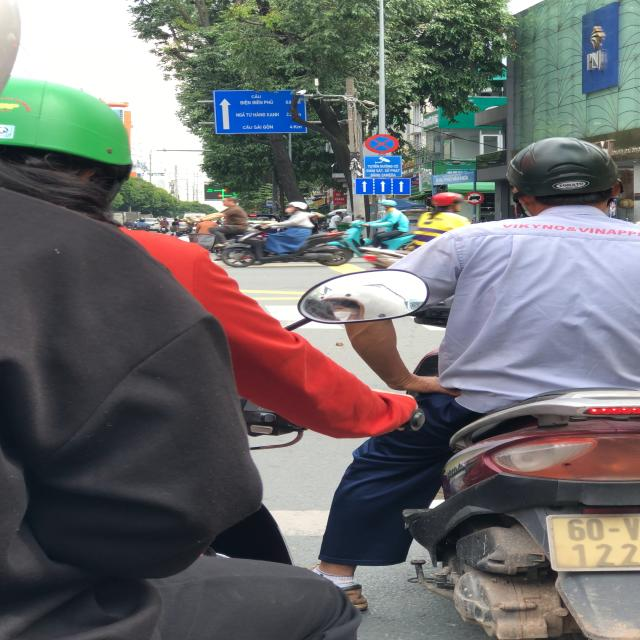Bien bao cam dung xe va do xe: (361, 132, 402, 154)
